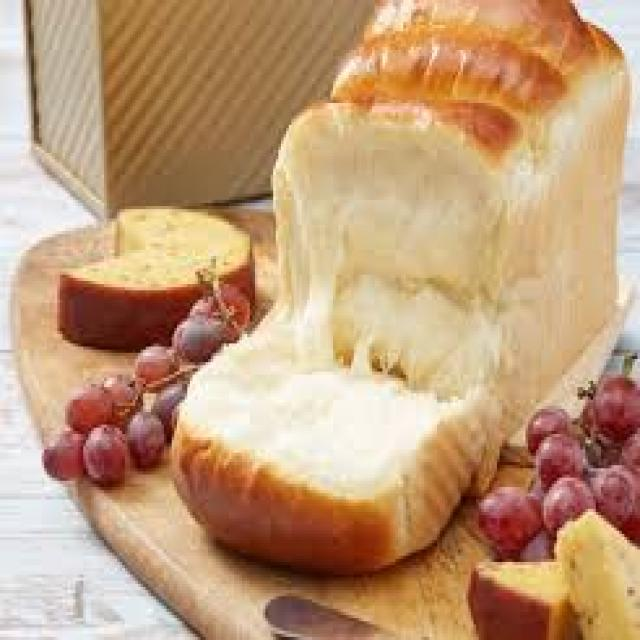organic waste: (317, 0, 619, 396), (268, 100, 507, 490), (166, 331, 478, 571), (60, 203, 252, 337), (562, 503, 637, 637), (463, 556, 580, 637), (476, 487, 541, 549), (533, 431, 583, 487), (520, 400, 572, 452), (594, 378, 638, 437), (544, 478, 590, 534), (125, 406, 164, 468), (62, 378, 110, 428), (81, 428, 125, 480), (130, 344, 172, 391), (36, 437, 80, 481), (598, 465, 632, 518), (172, 315, 206, 356), (578, 424, 619, 456), (216, 278, 244, 321), (102, 375, 136, 409), (153, 384, 177, 425), (192, 290, 218, 325), (622, 428, 637, 478)
